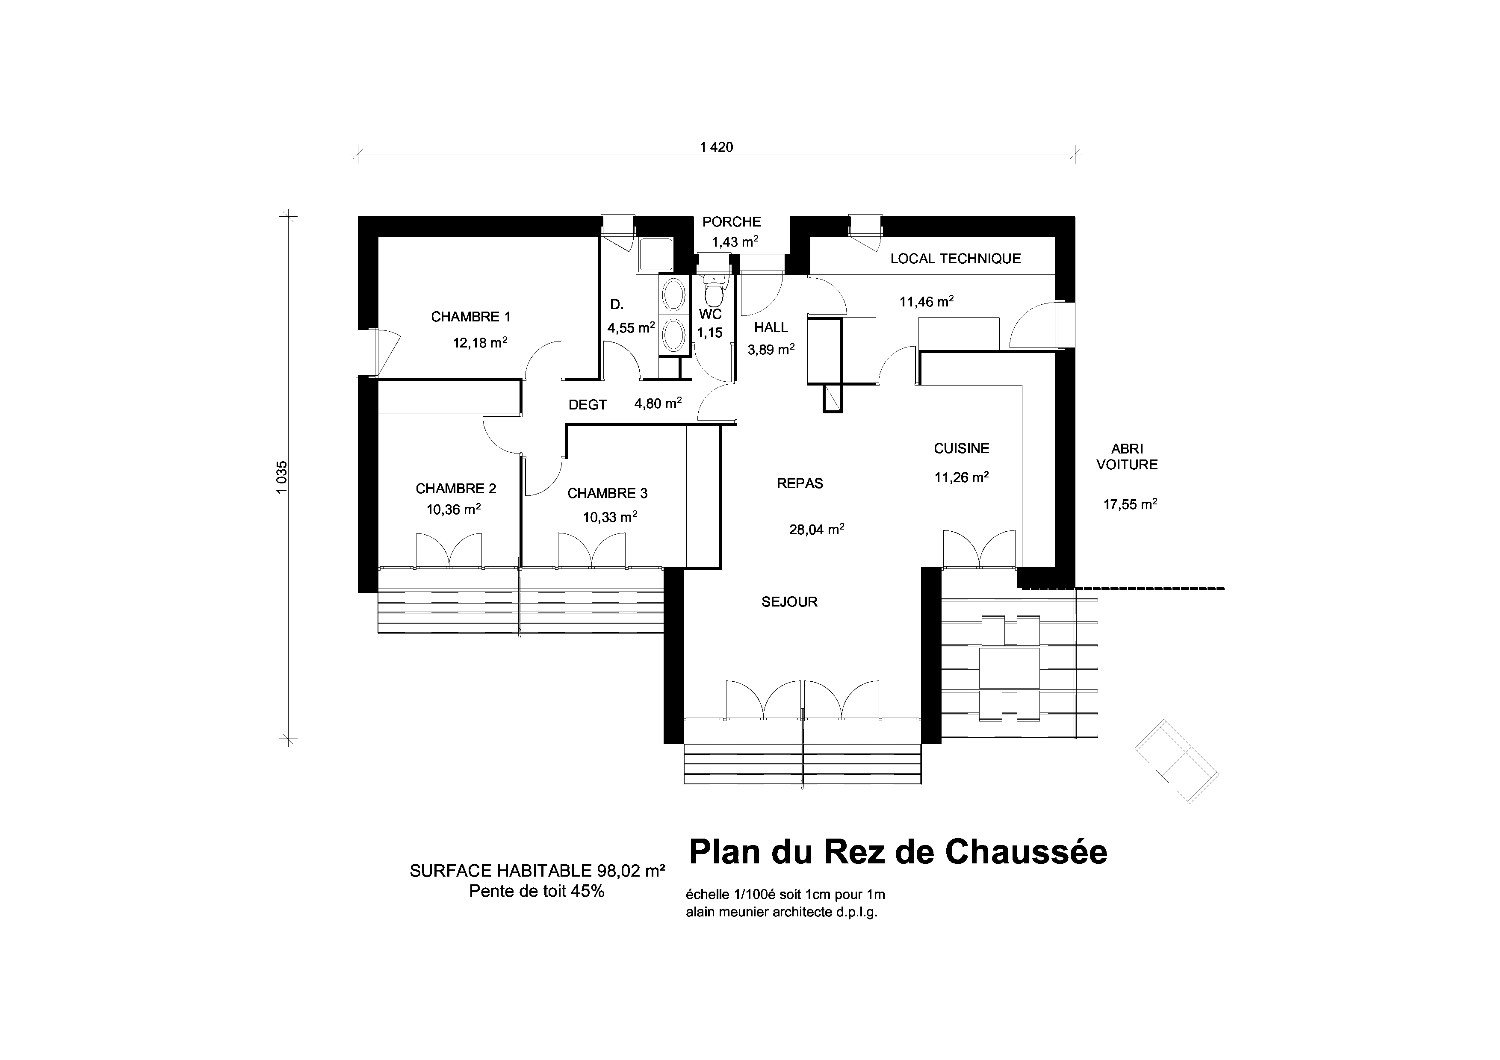ceramic sink: (658, 275, 690, 356)
door: (1008, 302, 1076, 349), (741, 270, 784, 317), (522, 340, 567, 383), (600, 340, 644, 382), (522, 455, 567, 496), (483, 413, 524, 455), (807, 275, 847, 318), (876, 346, 917, 385)
square bath tab: (636, 236, 674, 274)
toilet: (700, 275, 731, 309)
window: (940, 529, 1019, 602), (522, 531, 665, 571), (378, 532, 518, 571), (356, 329, 403, 379), (847, 215, 884, 254), (600, 215, 636, 254)
